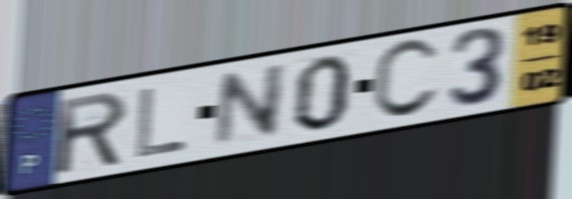0: (291, 52, 355, 134)
3: (445, 24, 512, 110)
C: (369, 36, 443, 123)
L: (133, 84, 190, 162)
N: (210, 60, 290, 151)
R: (56, 88, 131, 178)
